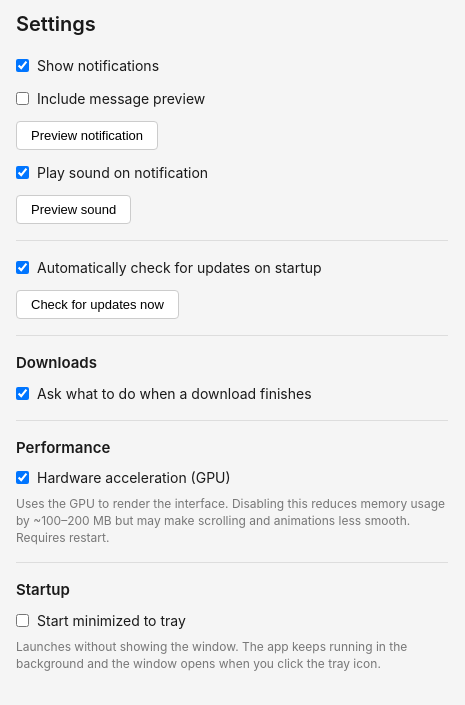
it: SettingsView auto-update controls › shows "up to date" message after Check now
Click the button "Check for updates now" at (98, 304), box [16,290,179,319]
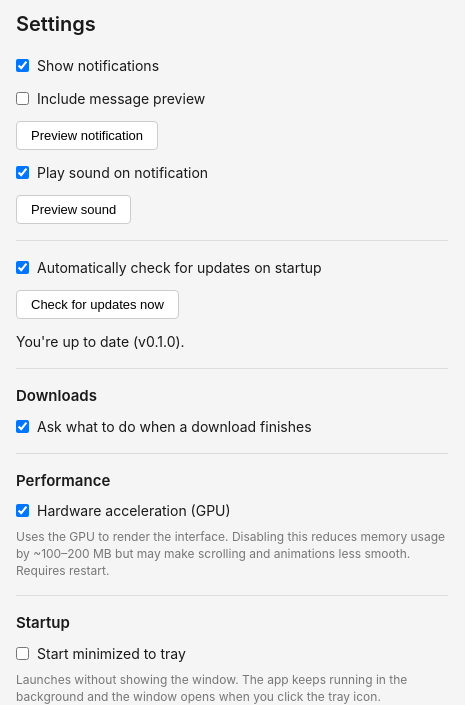
Check: the text "You're up to date (v0.1.0)." is shown, box [16,331,185,352]
